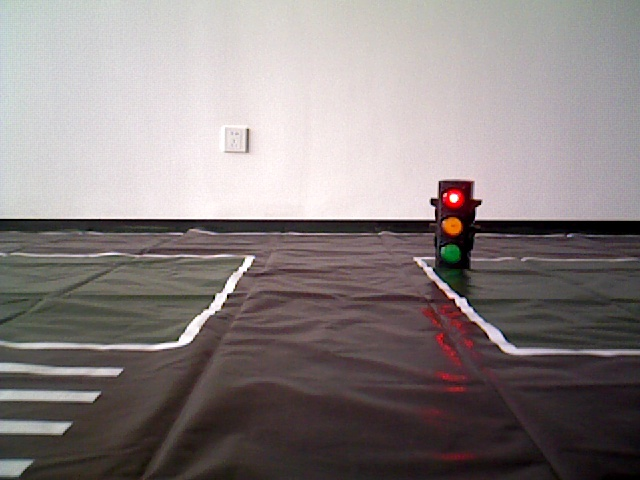red: (434, 184, 467, 268)
